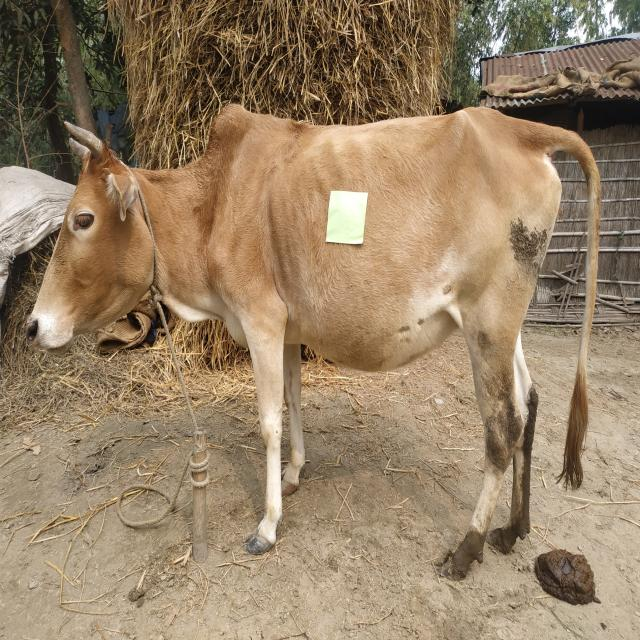badan_sapi: (250, 121, 535, 352)
sapi: (18, 95, 600, 586)
